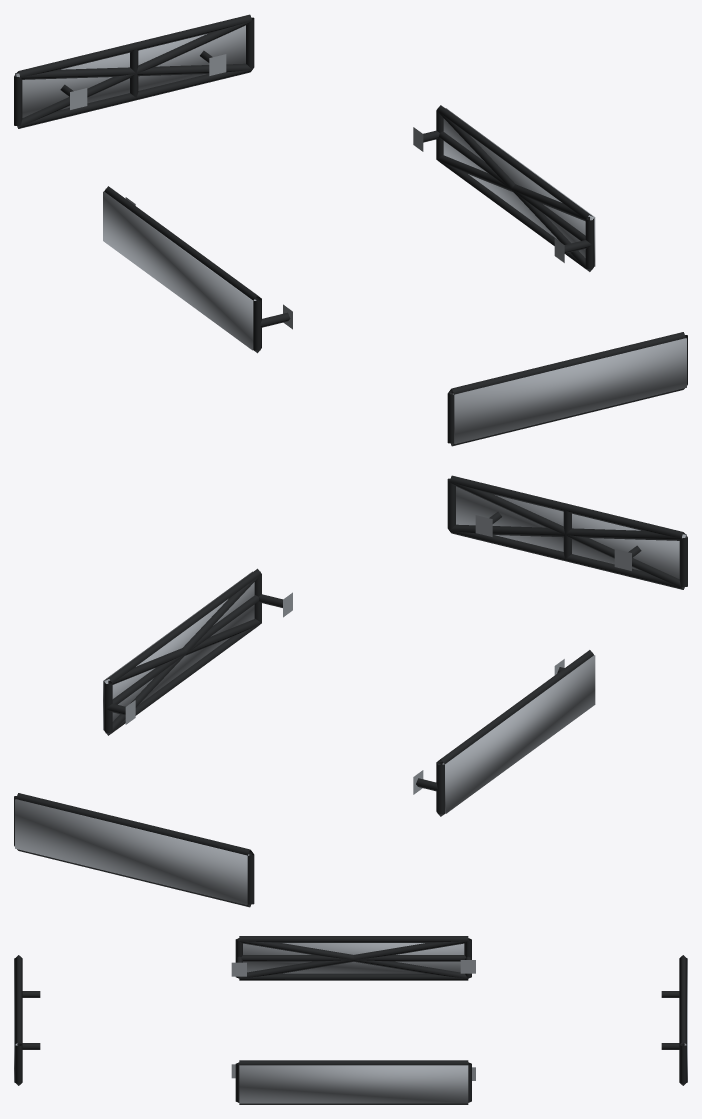
The model's file is calderwood_nectar_protecao.glb.
3 views of the same model, one above another, from view 1: azimuth 30°, elevation 25°; view 2: azimuth 150°, elevation 25°; view 3: azimuth 270°, elevation 25° (orthographic). The views are drawn at different scales.
Parts seen in each view (by area): view 1: Protection_front_Level3_Details, Protection_left_Level3_Details, Protection_rear_Level1_Details, Protection_rear_Level3_Details, Protection_right_Level1_Details, Protection_rear_Level2_Details, Protection_right_Level2_Details, Protection_right_Level3_Details, Protection_front_Level1_Details, Protection_left_Level1_Details; view 2: Protection_rear_Level3_Details, Protection_left_Level3_Details, Protection_front_Level1_Details, Protection_front_Level3_Details, Protection_right_Level1_Details, Protection_front_Level2_Details, Protection_right_Level2_Details, Protection_right_Level3_Details, Protection_rear_Level1_Details, Protection_left_Level1_Details; view 3: Protection_right_Level3_Details, Protection_left_Level2_Details, Protection_left_Level1_Details, Protection_left_Level3_Details, Protection_right_Level1_Details, Protection_rear_Level1_Details, Protection_front_Level1_Details.
Boxes of the visible parts, x1=… form: Protection_front_Level3_Details: x1=452, y1=338, x2=686, y2=444; Protection_left_Level3_Details: x1=103, y1=191, x2=256, y2=350; Protection_rear_Level1_Details: x1=14, y1=14, x2=254, y2=128; Protection_rear_Level3_Details: x1=15, y1=25, x2=245, y2=117; Protection_right_Level1_Details: x1=413, y1=105, x2=594, y2=271; Protection_rear_Level2_Details: x1=16, y1=21, x2=252, y2=127; Protection_right_Level2_Details: x1=437, y1=111, x2=592, y2=271; Protection_right_Level3_Details: x1=443, y1=108, x2=595, y2=266; Protection_front_Level1_Details: x1=447, y1=332, x2=687, y2=446; Protection_left_Level1_Details: x1=104, y1=186, x2=292, y2=353; Protection_rear_Level3_Details: x1=15, y1=799, x2=249, y2=905; Protection_left_Level3_Details: x1=442, y1=655, x2=595, y2=813; Protection_front_Level1_Details: x1=447, y1=475, x2=687, y2=589; Protection_front_Level3_Details: x1=456, y1=486, x2=686, y2=578; Protection_right_Level1_Details: x1=104, y1=568, x2=292, y2=735; Protection_front_Level2_Details: x1=449, y1=482, x2=685, y2=588; Protection_right_Level2_Details: x1=105, y1=575, x2=261, y2=735; Protection_right_Level3_Details: x1=103, y1=571, x2=254, y2=730; Protection_rear_Level1_Details: x1=14, y1=793, x2=254, y2=907; Protection_left_Level1_Details: x1=413, y1=650, x2=593, y2=816; Protection_right_Level3_Details: x1=239, y1=1065, x2=468, y2=1103; Protection_left_Level2_Details: x1=239, y1=939, x2=468, y2=978; Protection_left_Level1_Details: x1=231, y1=936, x2=475, y2=980; Protection_left_Level3_Details: x1=243, y1=943, x2=464, y2=973; Protection_right_Level1_Details: x1=231, y1=1060, x2=475, y2=1104; Protection_rear_Level1_Details: x1=661, y1=955, x2=686, y2=1085; Protection_front_Level1_Details: x1=15, y1=955, x2=40, y2=1085.
Bounding box in the file's own units: 2.19 × 0.354 × 4.86.
Materials: 1 (1 with a texture image).
